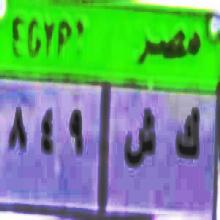4: (38, 106, 54, 156)
8: (8, 102, 28, 160)
9: (66, 102, 92, 162)
kaaf: (170, 102, 204, 165)
sheen: (124, 109, 157, 176)
